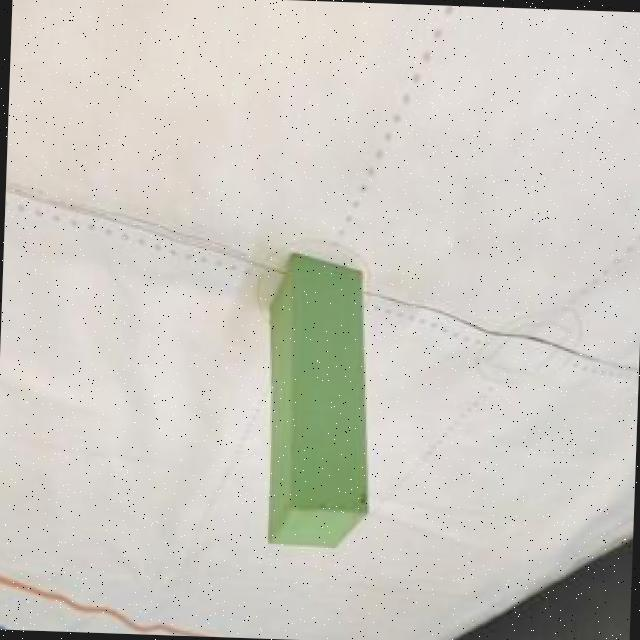greenbox: (258, 247, 377, 550)
